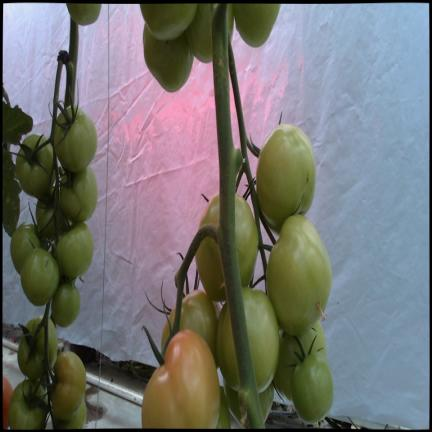6kp_peduncle: (178, 182, 240, 288), (54, 41, 78, 97)
MainStem: (210, 2, 266, 430), (65, 19, 79, 106)
tomato: (266, 214, 332, 335), (142, 330, 220, 428), (196, 193, 258, 301), (216, 287, 279, 392), (256, 124, 315, 232), (161, 290, 217, 365), (273, 322, 326, 400), (143, 24, 193, 91), (291, 352, 333, 422), (185, 4, 234, 62), (54, 106, 97, 172), (18, 317, 57, 380), (51, 351, 86, 420), (16, 134, 53, 198), (224, 379, 274, 424), (20, 248, 59, 305), (60, 166, 98, 222), (140, 4, 197, 39), (57, 223, 93, 278), (233, 4, 280, 46), (8, 378, 46, 429), (10, 223, 40, 274), (51, 283, 80, 326), (36, 200, 62, 238), (54, 399, 86, 429), (67, 3, 101, 25)
